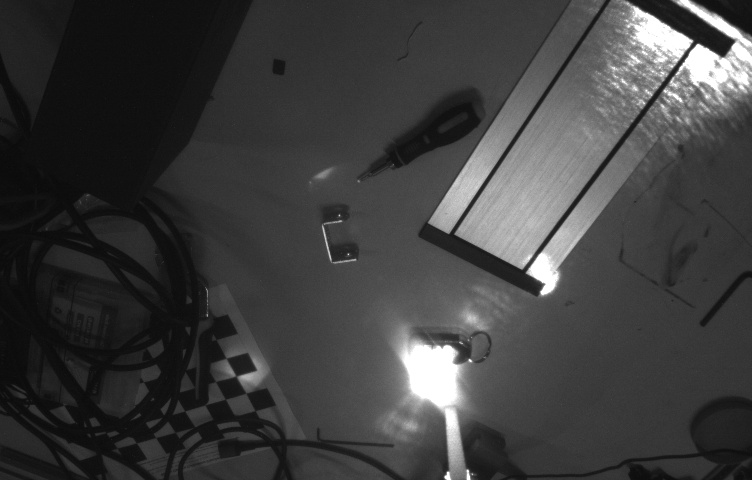Object car key fob with keyring - Material plastic - Pdfname u4lxlaYXiY3D: (389, 334, 469, 391)
